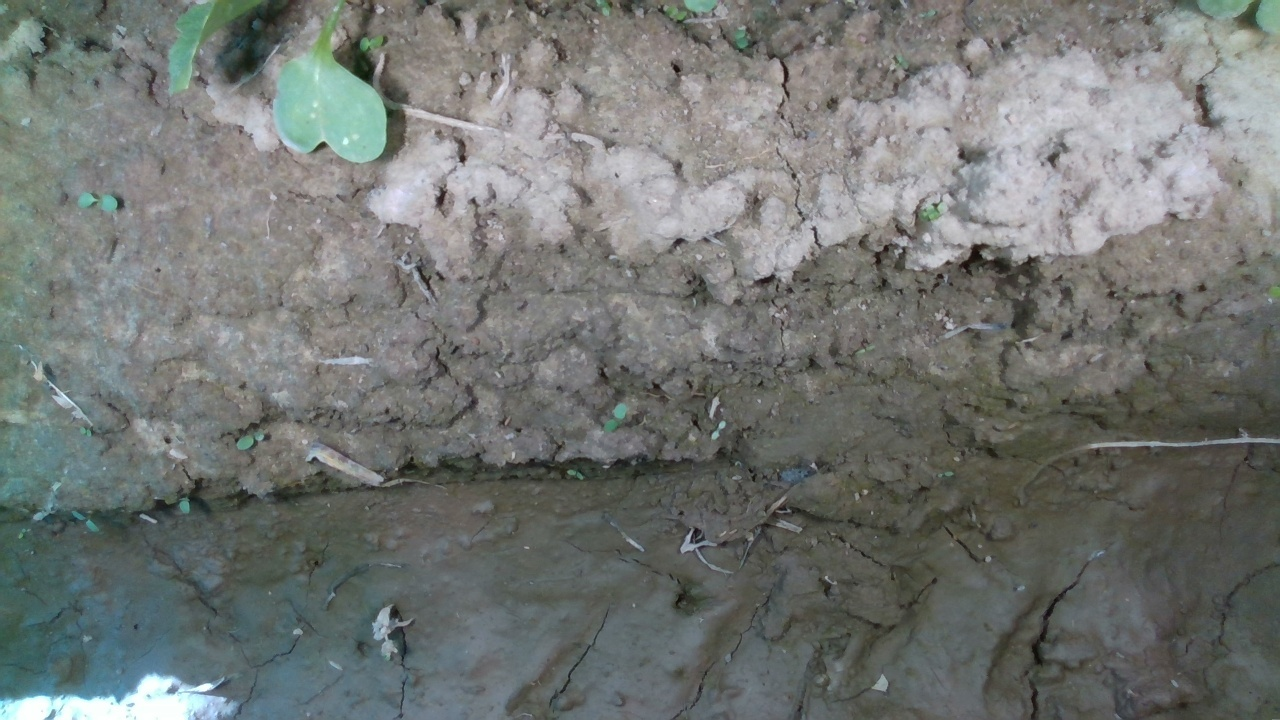weed: (76, 191, 118, 214), (70, 508, 102, 533), (234, 428, 265, 452), (356, 33, 385, 53), (733, 28, 749, 48), (78, 426, 92, 438)
